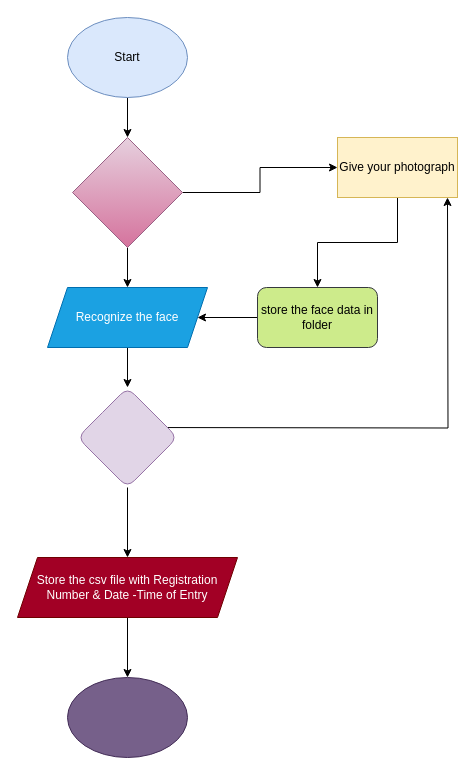
Some shapes in this 475 by 775 pixel diagram are drawn without their labels. Here are the shapes that lost their labels. From the top down, the centre of each, then its label:
pixel 127 192: New User?
pixel 127 437: Face Recognition
